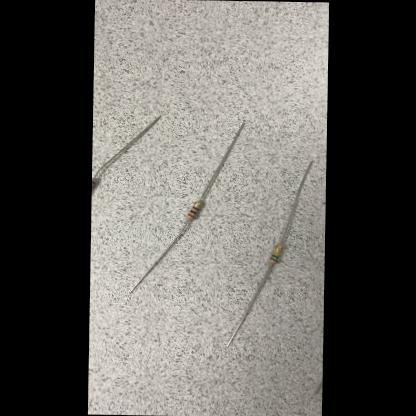resistor: (268, 244, 282, 264), (187, 200, 201, 220), (92, 178, 95, 192)
wire: (128, 219, 190, 294), (94, 113, 162, 178), (226, 264, 272, 348), (199, 122, 245, 200), (279, 159, 313, 244)
